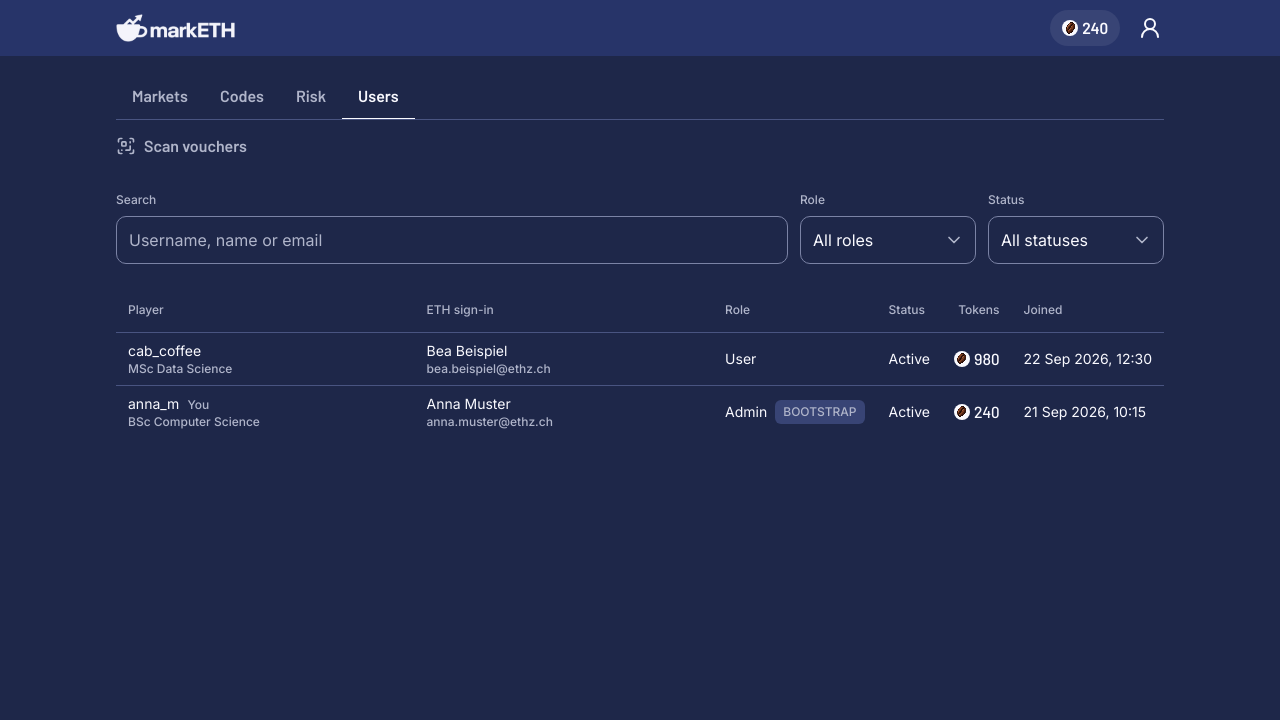
Test: the dialog of a user › a tap anywhere on the row opens it too
The image size is (1280, 720).
Click the text "22 Sep 2026, 12:30" at (1088, 358), box [1024,350,1152,366]
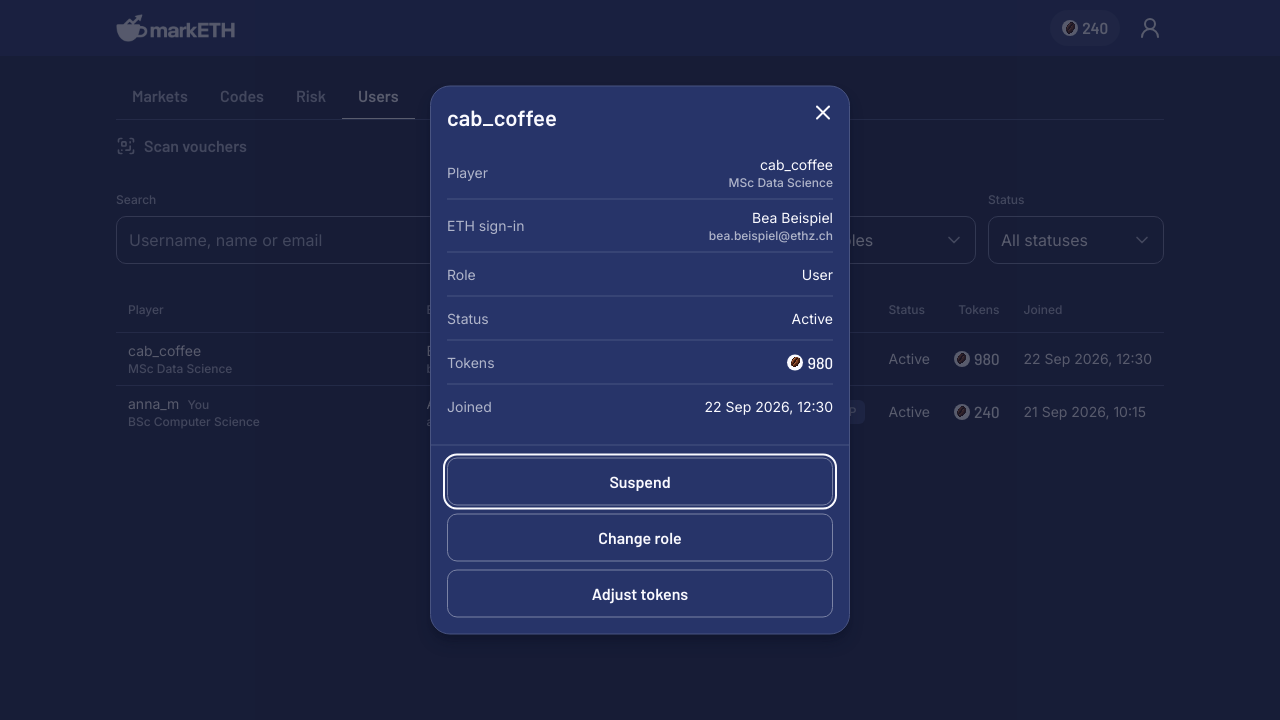
Check: the dialog "cab_coffee" is shown, box [430,86,850,634]
